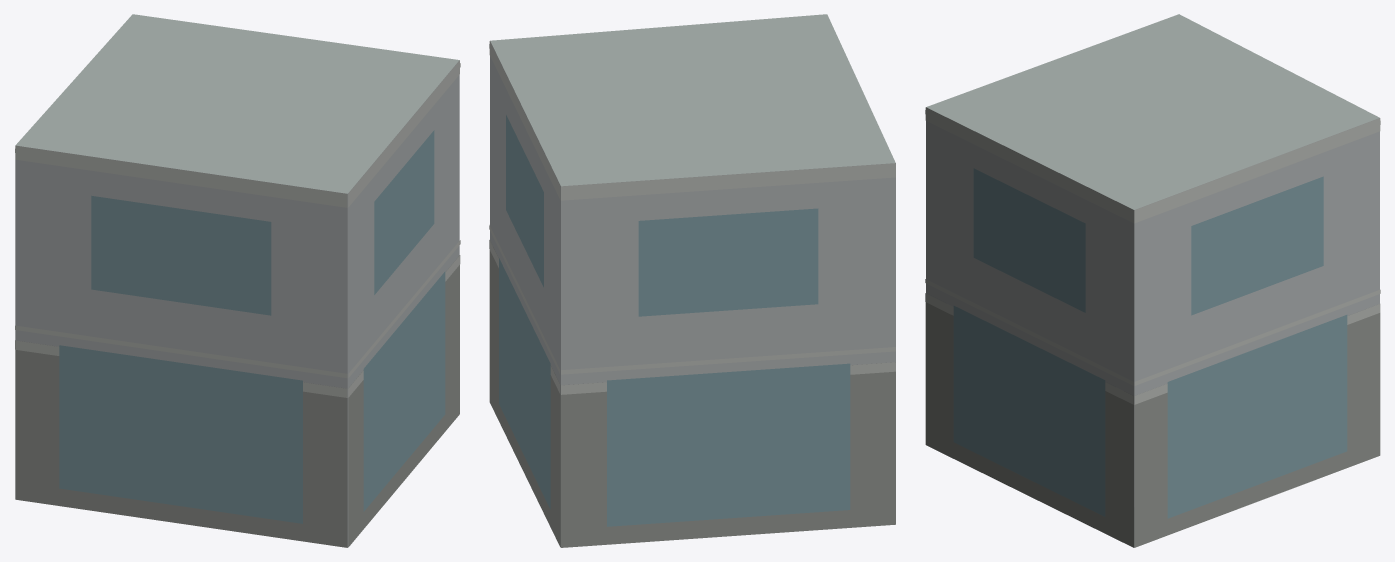
The model's file is survey-upis-32833373.glb.
The picture shows the model from 3 angles, left to right: view 1: azimuth 30°, elevation 25°; view 2: azimuth 150°, elevation 25°; view 3: azimuth 270°, elevation 25°; orthographic projection. The views are drawn at different scales.
Visible parts, largest first — view 1: survey-upis-32833373.tmp; view 2: survey-upis-32833373.tmp; view 3: survey-upis-32833373.tmp.
Part boxes in pixels (x1,y1,x2,y2): survey-upis-32833373.tmp: (15,14,460,547); survey-upis-32833373.tmp: (489,14,895,547); survey-upis-32833373.tmp: (925,14,1380,547).
Bounding box in the file's own units: 7.61 × 6.1 × 7.45.
